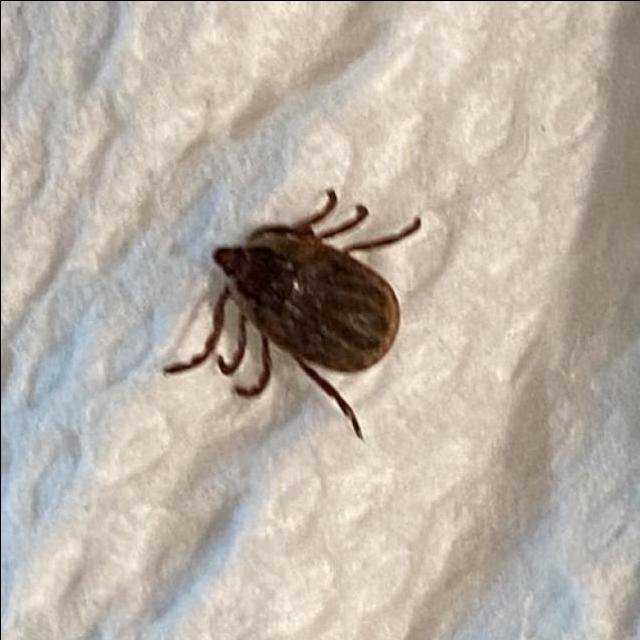Rhipicephalus Sanguineus-F-Fed: (162, 186, 420, 439)
